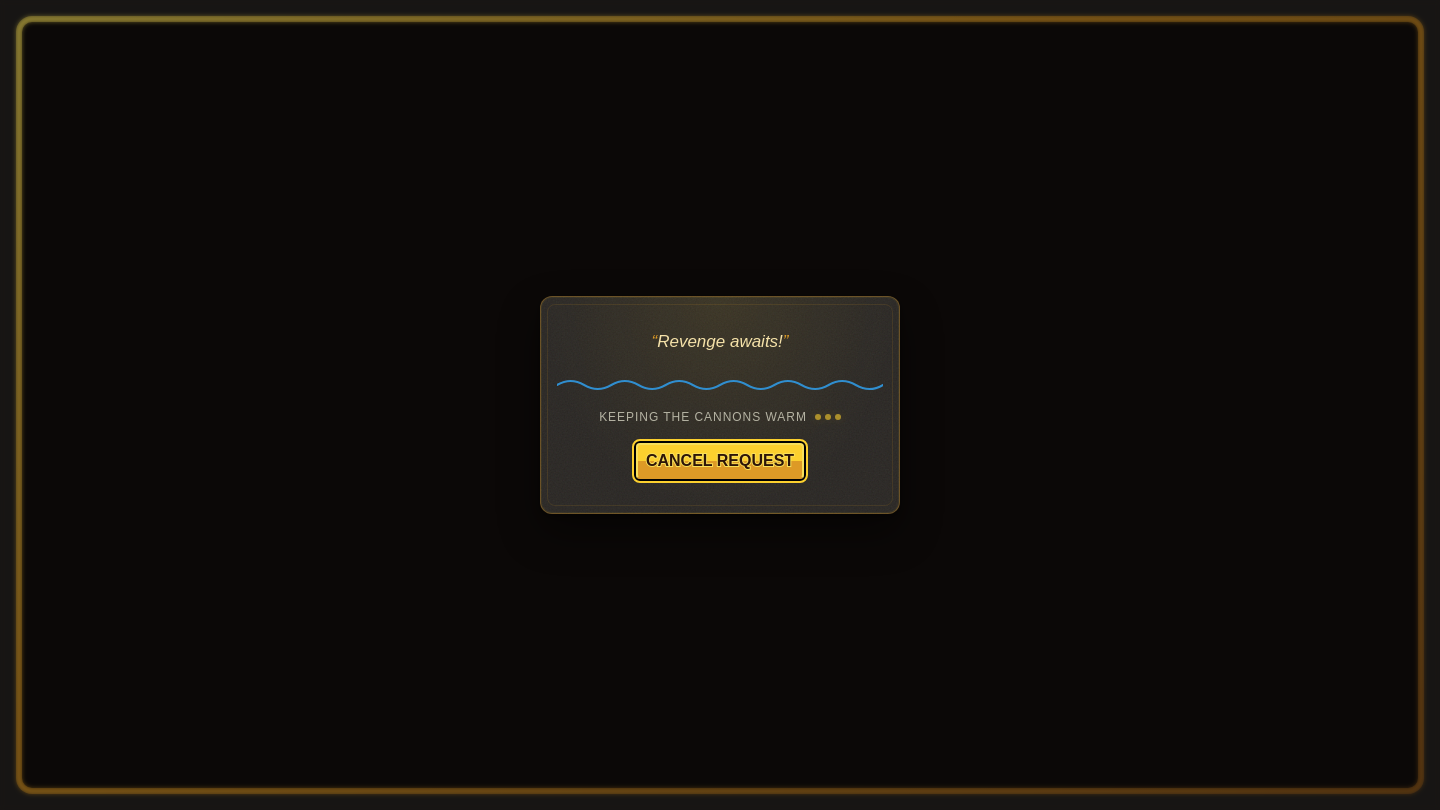
Test: RematchRequestSentModal › emits cancel_rematch once and disables the button while cancelling
Later steps or results of the test are not shown.
Click the button "Cancel request": (720, 461) [636, 443, 804, 479]
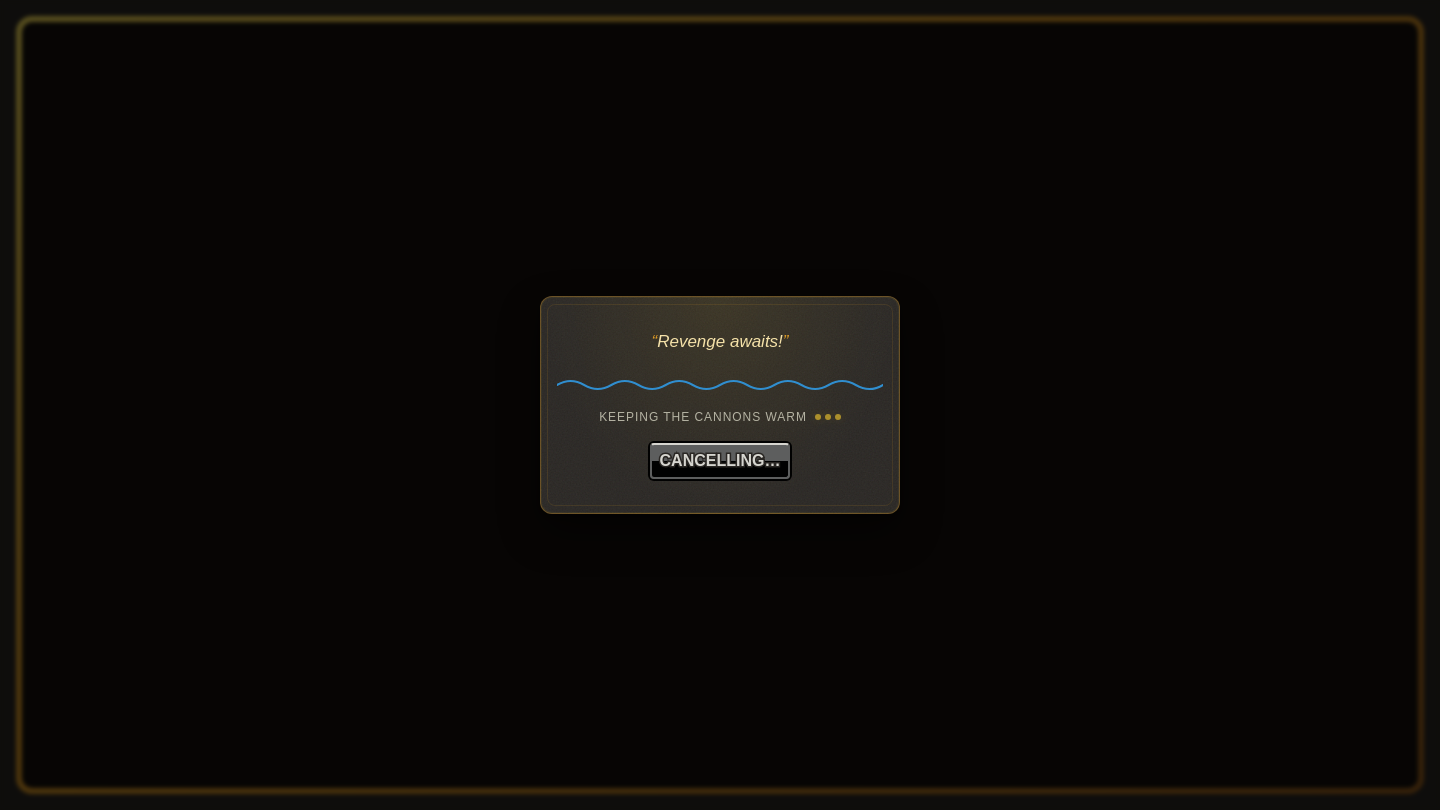
Expected: the button "Cancelling…" is disabled, [650, 443, 790, 479]
